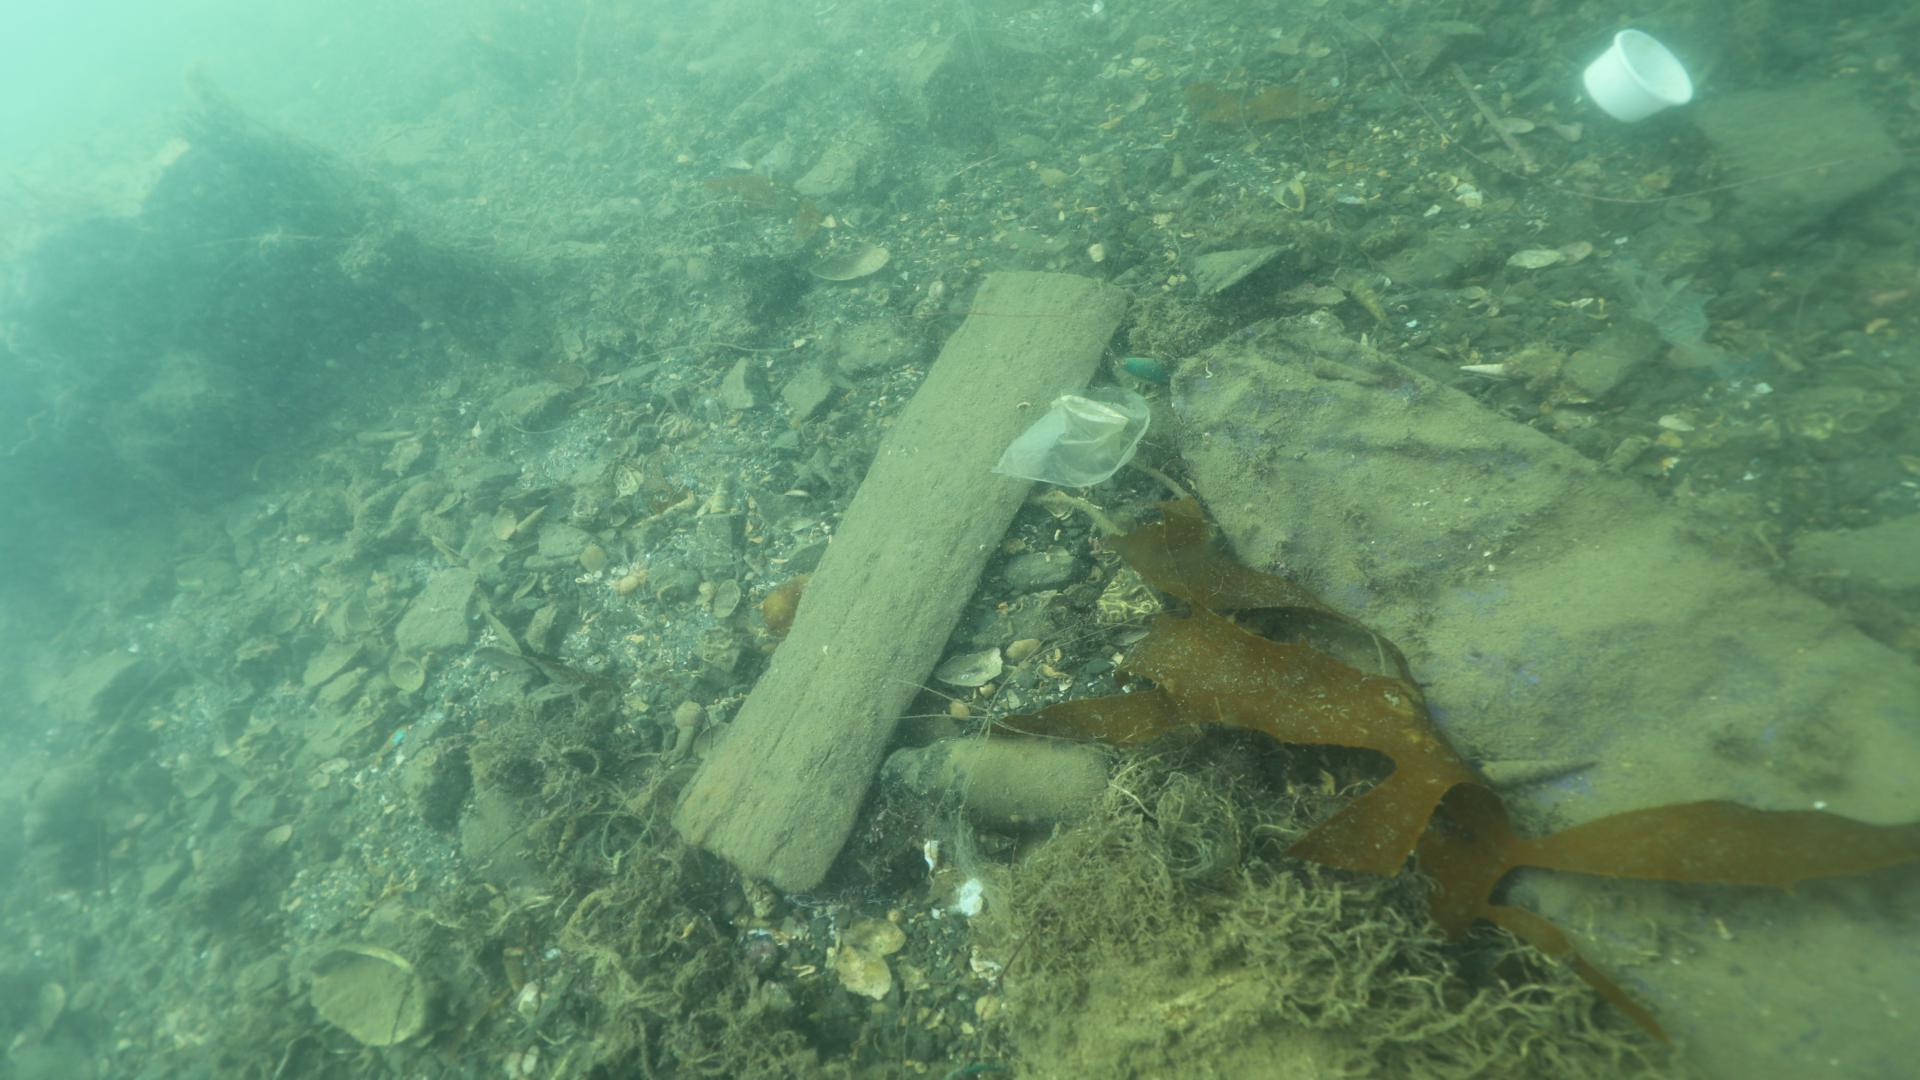wood: (666, 265, 1129, 895)
